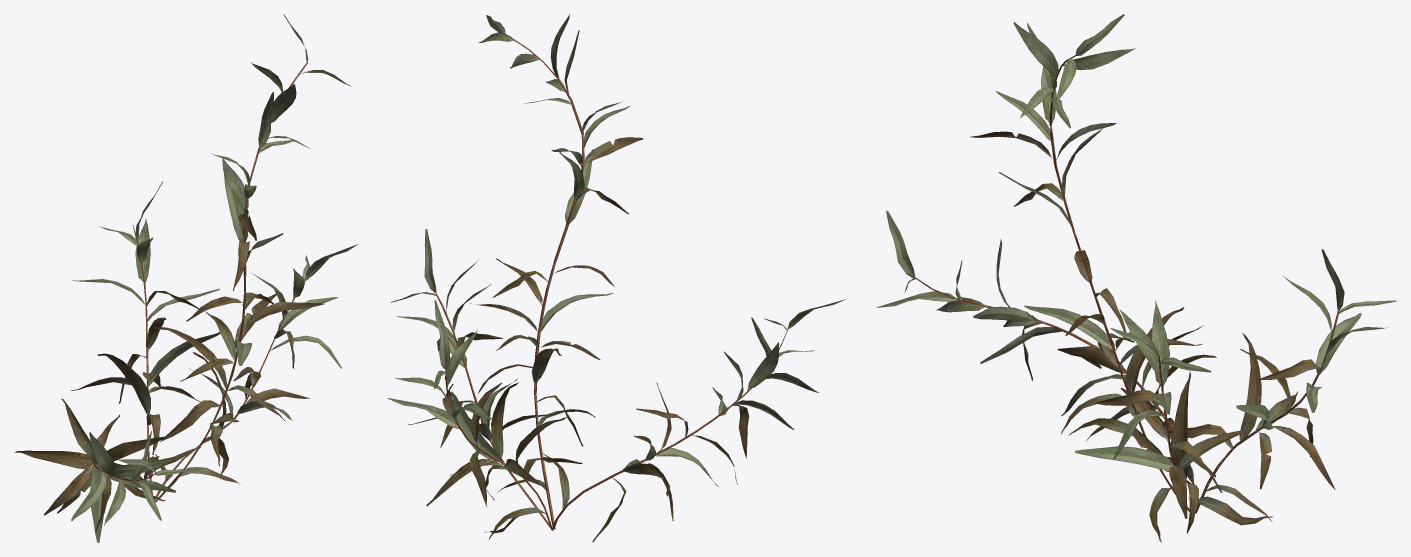
Rendered from shrub_02_b.gltf.lod.glb.
3 views of the same model, side by side, from view 1: azimuth 30°, elevation 25°; view 2: azimuth 150°, elevation 25°; view 3: azimuth 270°, elevation 25° (orthographic). The views are drawn at different scales.
Visible parts, largest first — view 1: shrub_02_b; view 2: shrub_02_b; view 3: shrub_02_b.
Part boxes in pixels (x1,y1,x2,y2): shrub_02_b: (15,14,357,542); shrub_02_b: (387,14,846,542); shrub_02_b: (876,14,1396,542).
Size of the model in its own units: 1.11 by 1.51 by 1.28.
1 material, 1 textured.
